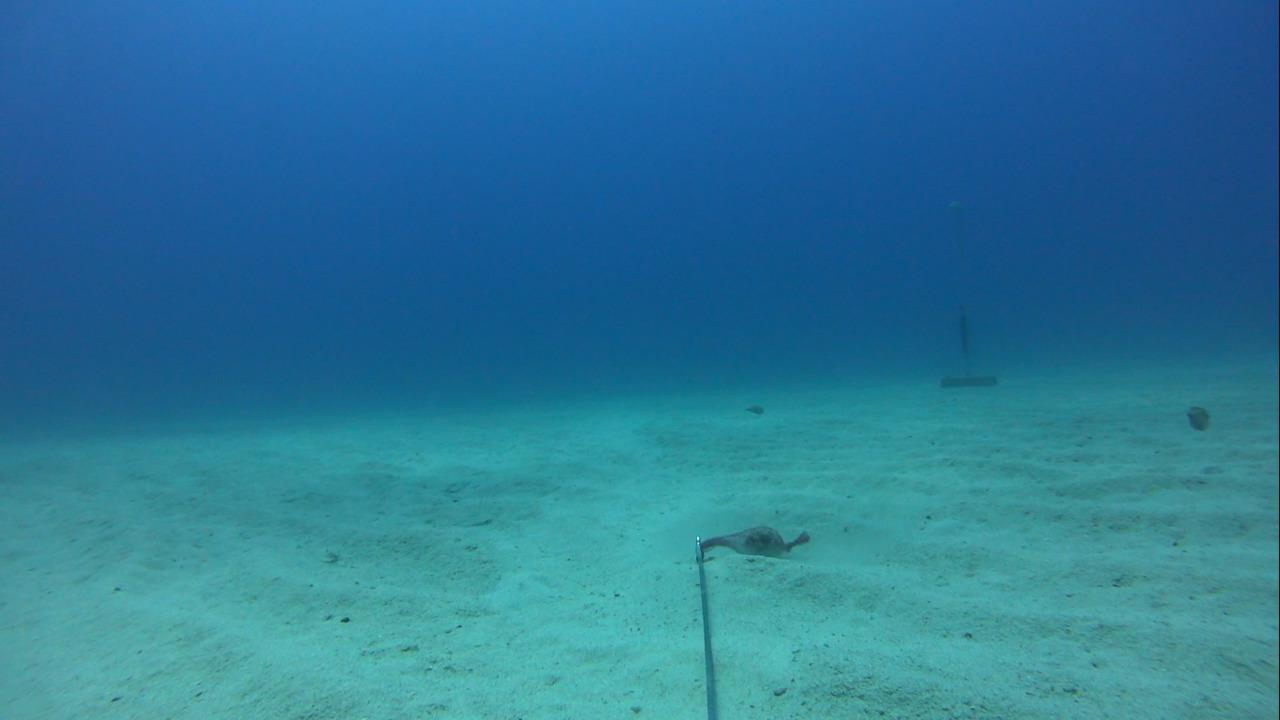raor: (1177, 394, 1220, 442), (736, 397, 778, 423)
